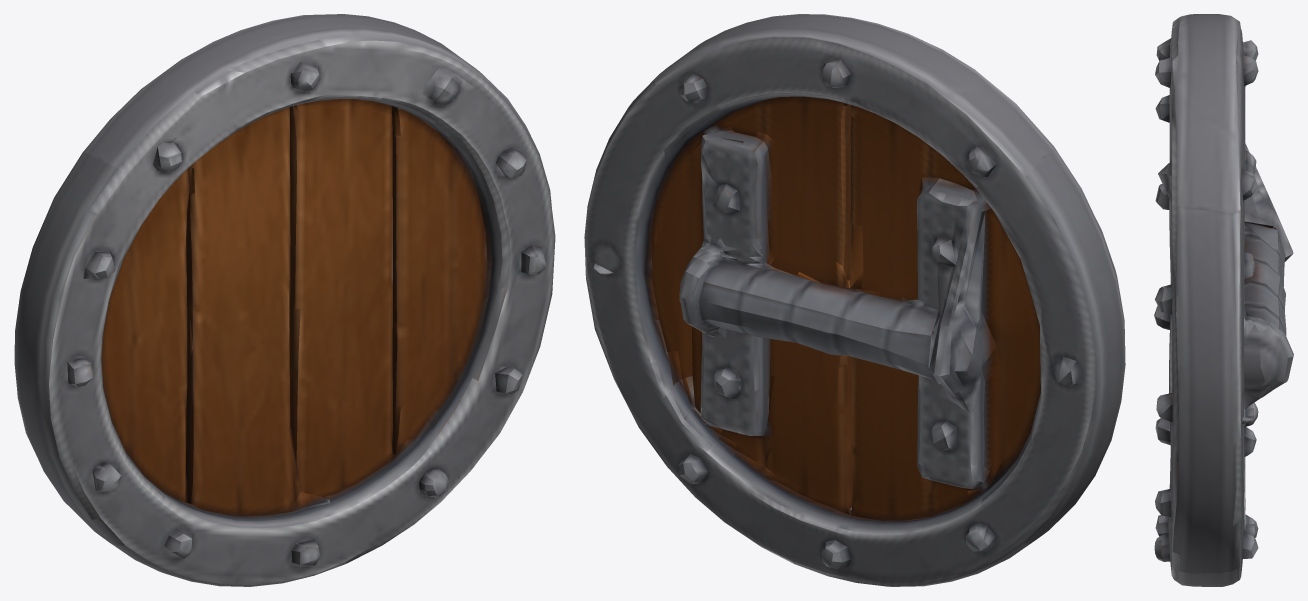
The model's file is shield_256.glb.
3 views of the same model, side by side, from view 1: azimuth 30°, elevation 25°; view 2: azimuth 150°, elevation 25°; view 3: azimuth 270°, elevation 25° (orthographic). The views are drawn at different scales.
Parts seen in each view (by area): view 1: Mesh0; view 2: Mesh0; view 3: Mesh0.
Boxes of the visible parts, x1,y1,x2,y2 form: Mesh0: (14,14,555,586); Mesh0: (584,14,1125,586); Mesh0: (1154,14,1293,586).
Size of the model in its own units: 1.9 by 1.9 by 0.4644.
1 material, 1 textured.
